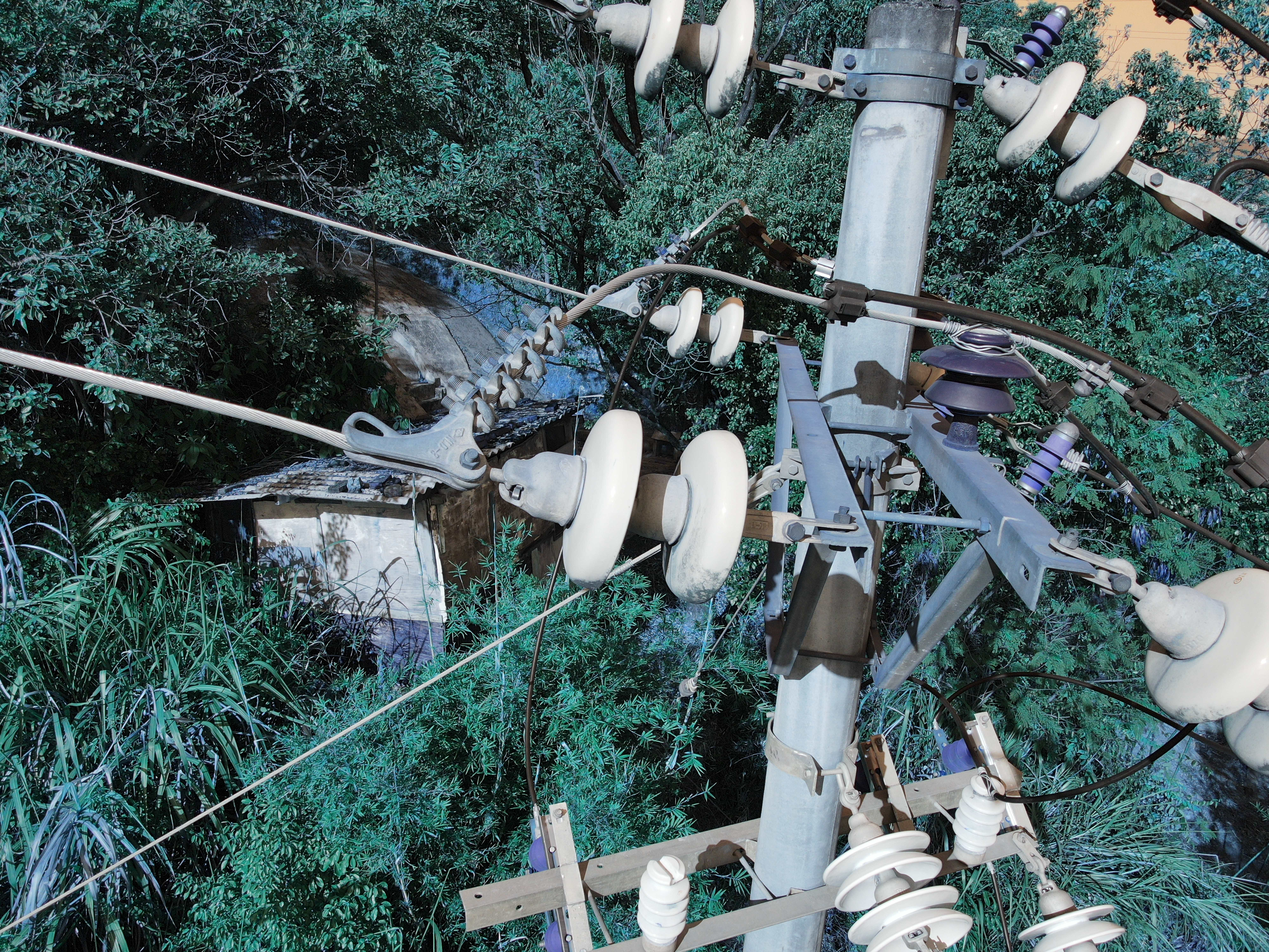severe_soiling_no_discharge_whole: (505, 405, 758, 604), (978, 60, 1153, 202), (599, 4, 764, 124), (652, 288, 747, 368)
